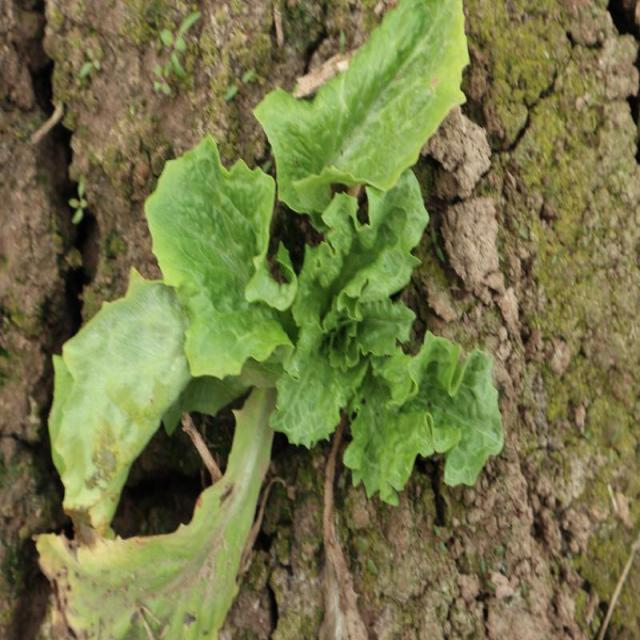crop: (47, 0, 509, 527)
